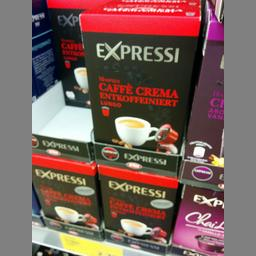coffee: (76, 1, 198, 153), (95, 164, 178, 242), (30, 151, 100, 226)
